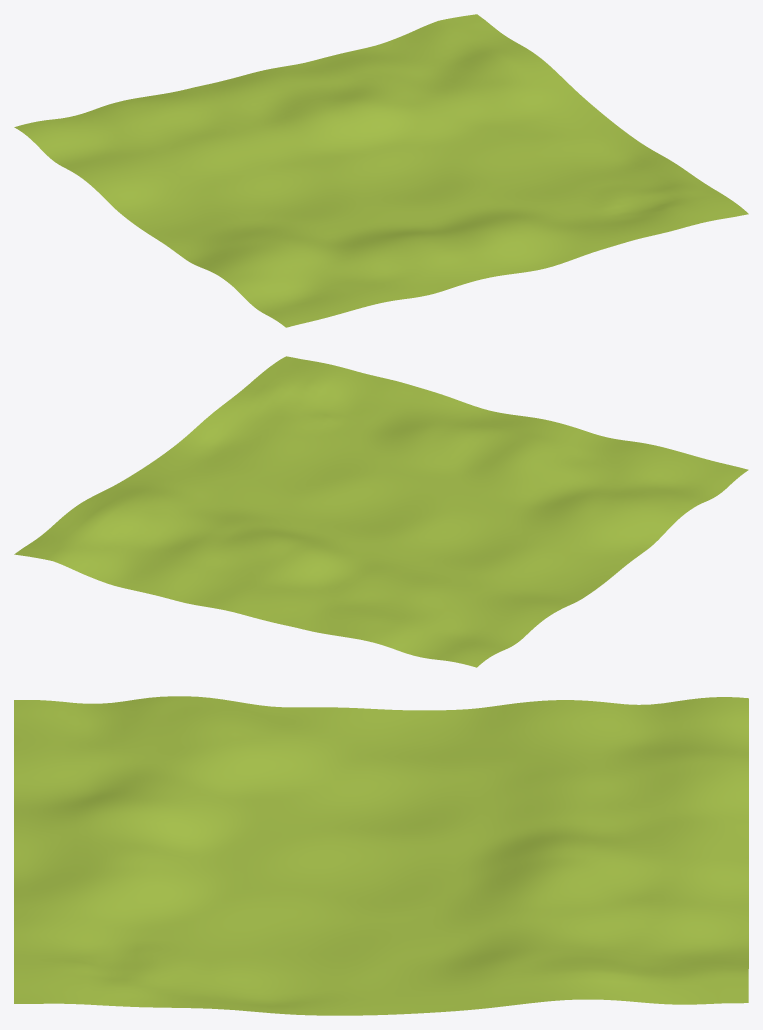
The model's file is carre7.fbx.
3 renders of one model, top to bottom at view 1: azimuth 30°, elevation 25°; view 2: azimuth 150°, elevation 25°; view 3: azimuth 270°, elevation 25°, orthographic. The views are drawn at different scales.
Visible parts, largest first — view 1: carre7; view 2: carre7; view 3: carre7.
Boxes of the visible parts, box(x1,y1,x2,y2) form: carre7: box(14, 14, 748, 327); carre7: box(14, 356, 748, 667); carre7: box(14, 696, 748, 1015).
Bounding box in the file's own units: 708 × 27.88 × 720.
